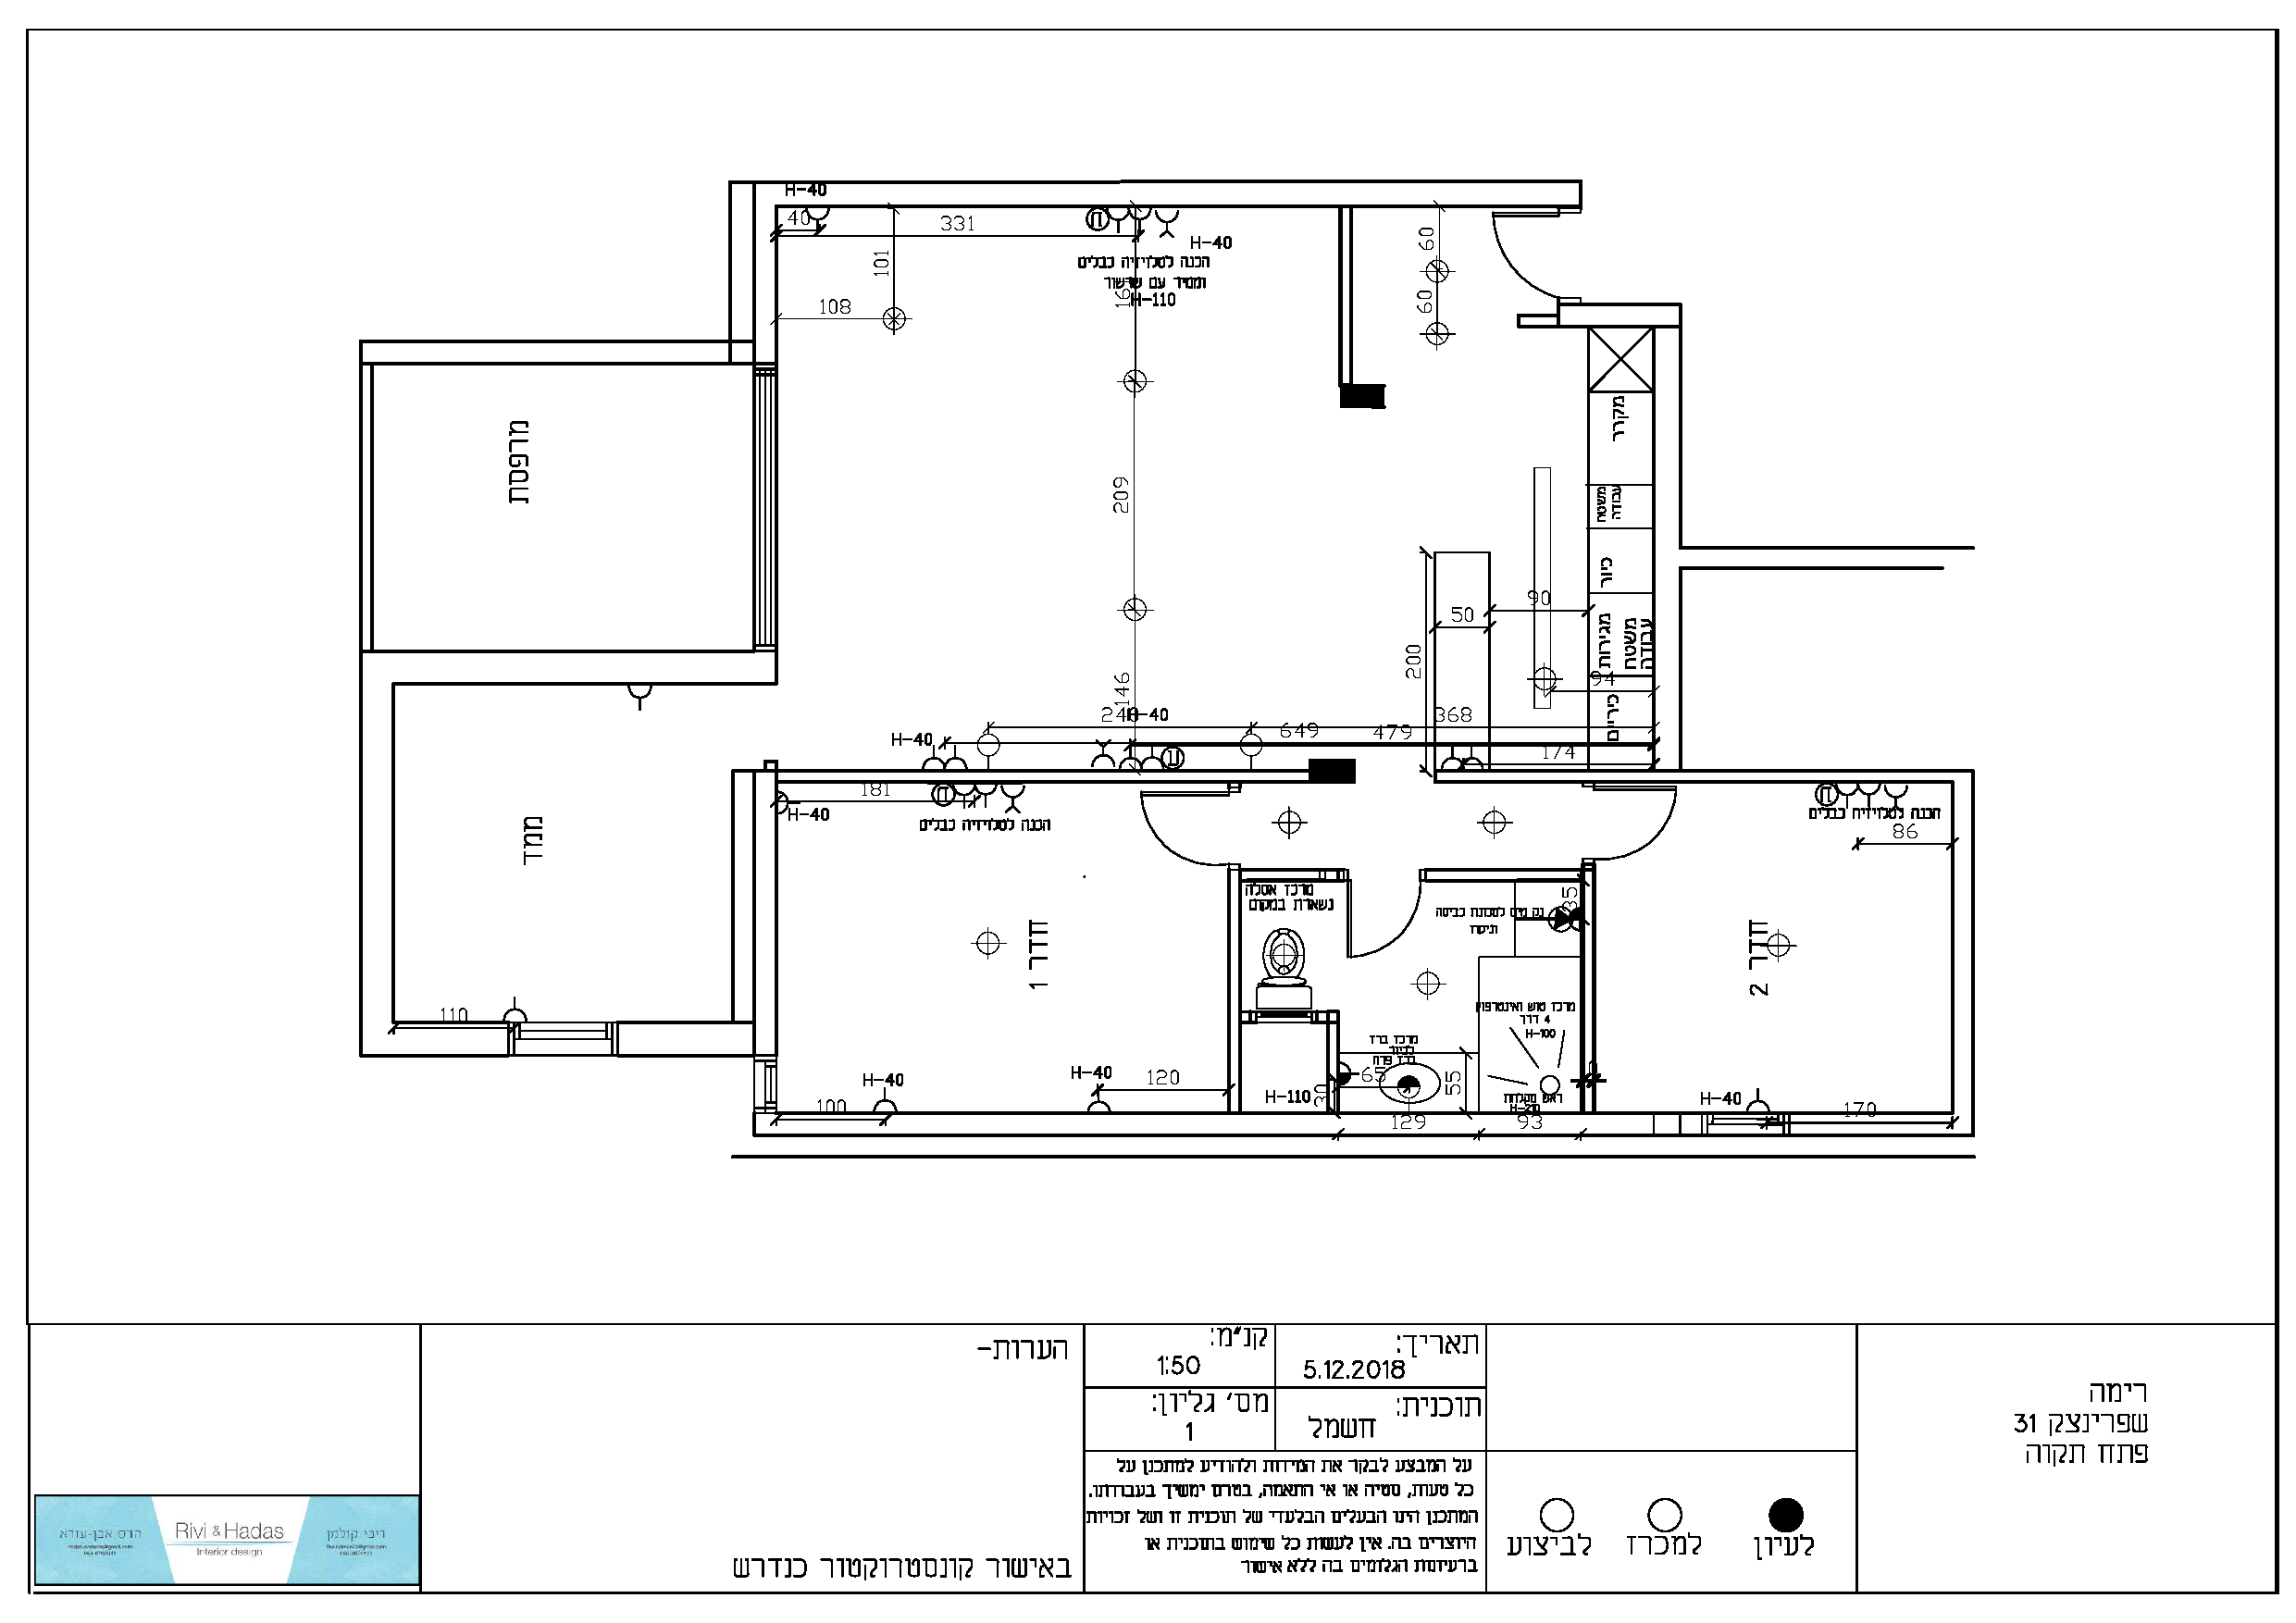door: (1602, 783, 1706, 876), (1121, 789, 1217, 873), (1490, 209, 1560, 307), (1335, 892, 1425, 966)
window: (747, 362, 789, 652), (508, 1015, 618, 1077), (748, 1054, 785, 1115)
